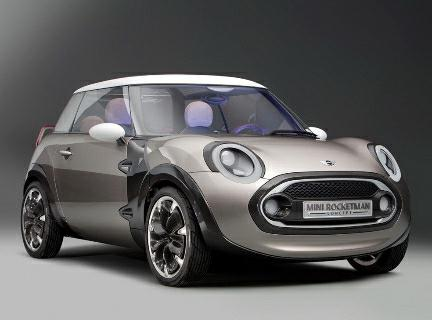MINI-ROCKETMAN: (8, 79, 417, 284)
